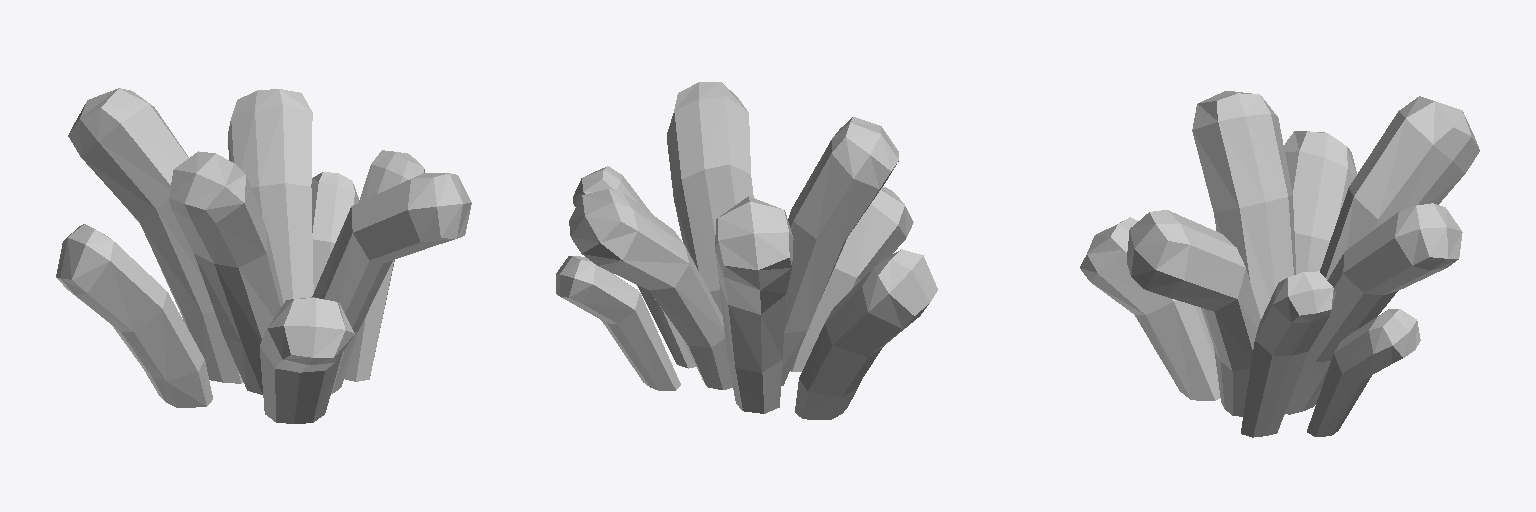
The model's file is Anemone_A_02_LOD1.obj.
3 views of the same model, side by side, from view 1: azimuth 30°, elevation 25°; view 2: azimuth 150°, elevation 25°; view 3: azimuth 270°, elevation 25° (orthographic).
Visible parts, largest first — view 1: Anemone_A_02_LOD1_Cylinder.403; view 2: Anemone_A_02_LOD1_Cylinder.403; view 3: Anemone_A_02_LOD1_Cylinder.403.
Part boxes in pixels (bbox=[...]): Anemone_A_02_LOD1_Cylinder.403: bbox=[56, 88, 471, 423]; Anemone_A_02_LOD1_Cylinder.403: bbox=[556, 82, 937, 419]; Anemone_A_02_LOD1_Cylinder.403: bbox=[1080, 91, 1479, 437].
Bounding box in the file's own units: 4.17 × 2.96 × 4.05.